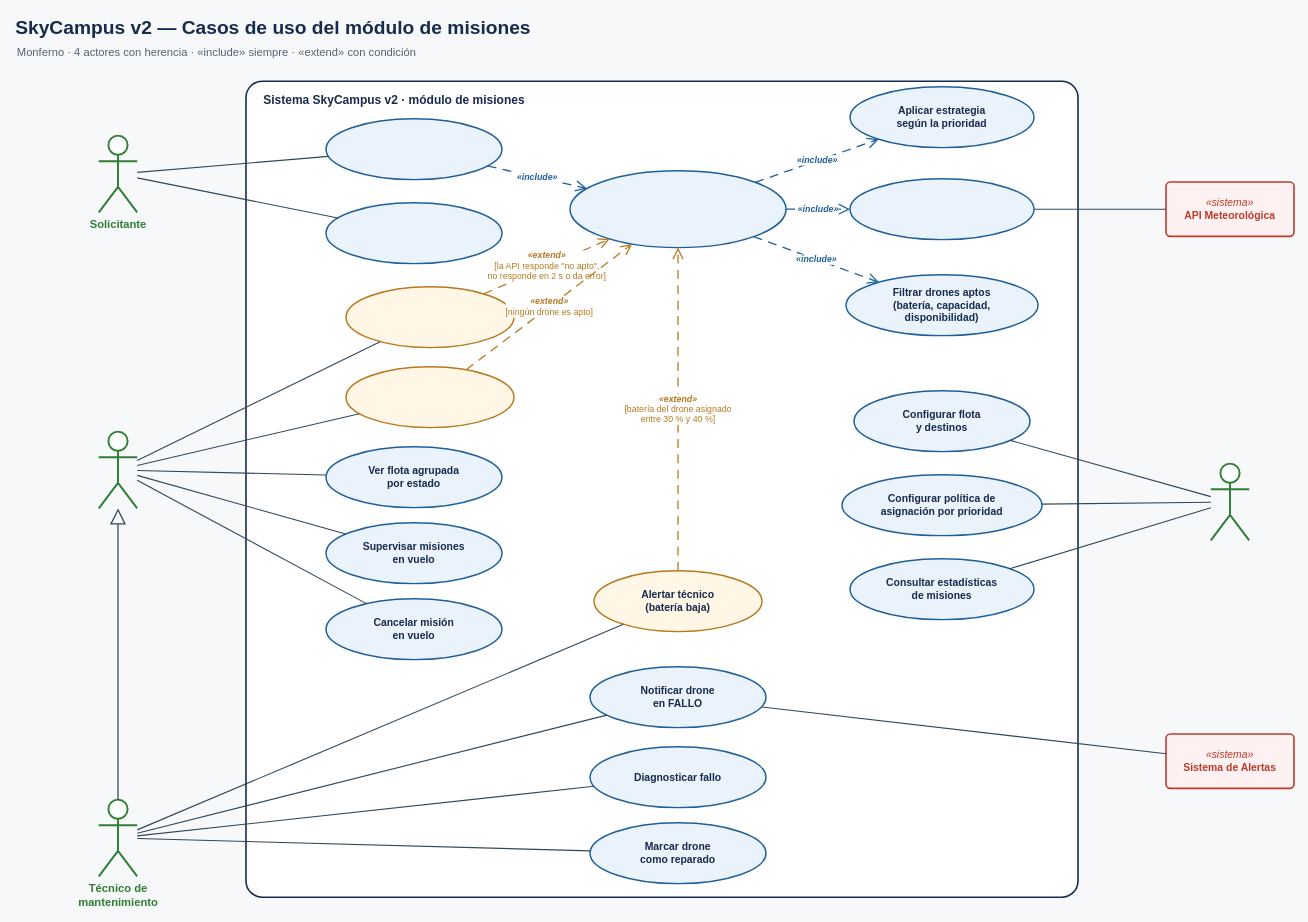
Some shapes in this 1308 by 922 pixel diagram are drawn without their labels. The centre of each missing label's shape, as x and y in pixels:
Admin: the point at 1229,501
Asignar drone automáticamente puntos de extensión: clima · aptos · batería: the point at 677,209
Consultar estado de la misión: the point at 413,233
Notificar clima adverso: the point at 429,317
Notificar sin drones aptos: the point at 429,397
Operador de drones: the point at 117,469
Registrar solicitud de reparto: the point at 413,149
Validar condiciones climáticas: the point at 941,209
